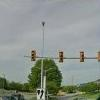Tree: (12, 45, 90, 100)
